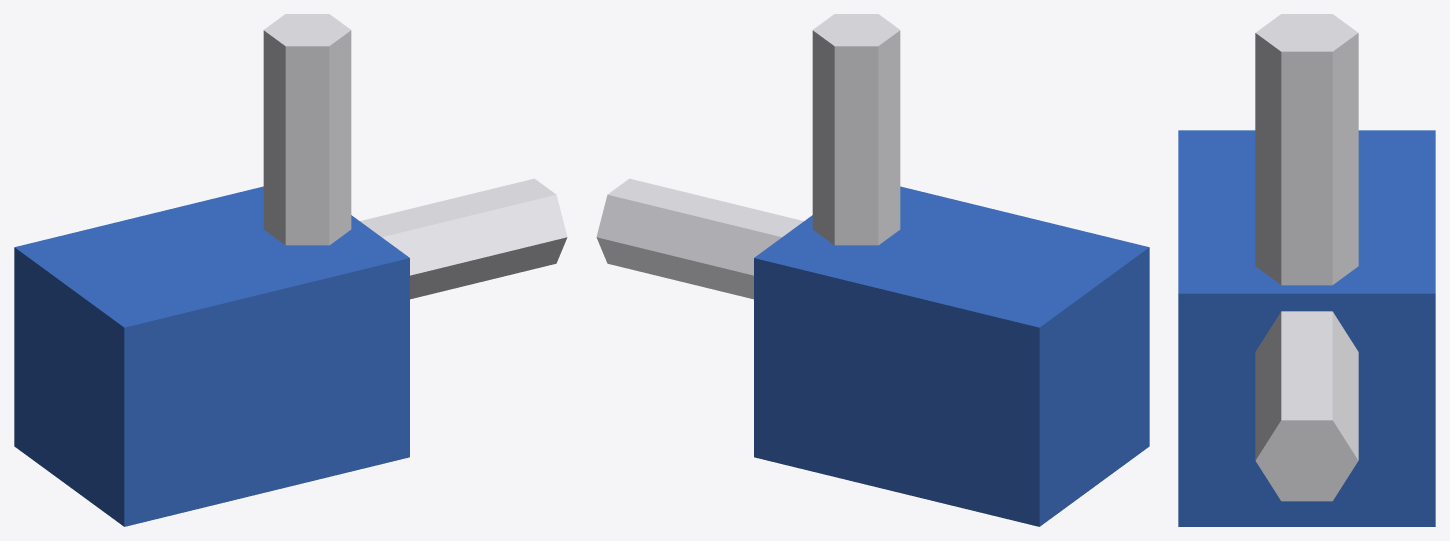
Rendered from hydro_water_pump.glb.
The picture shows the model from 3 angles, left to right: view 1: azimuth 30°, elevation 25°; view 2: azimuth 150°, elevation 25°; view 3: azimuth 270°, elevation 25°; orthographic projection. The views are drawn at different scales.
Visible parts, largest first — view 1: water_pump; view 2: water_pump; view 3: water_pump.
Part boxes in pixels (x1,y1,x2,y2): water_pump: (14, 14, 567, 526); water_pump: (596, 14, 1149, 526); water_pump: (1178, 14, 1435, 526).
Bounding box in the file's own units: 0.5 × 0.4 × 0.2.
